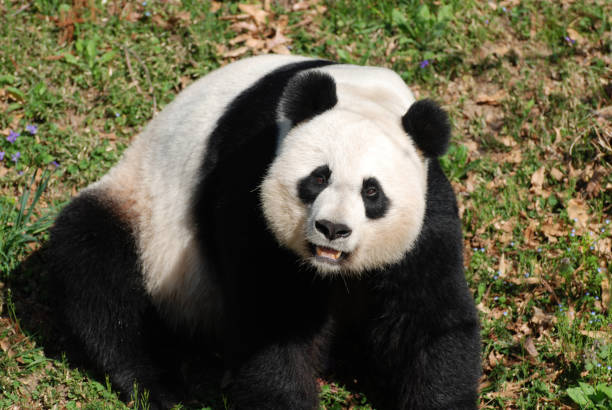panda: (250, 63, 454, 292)
